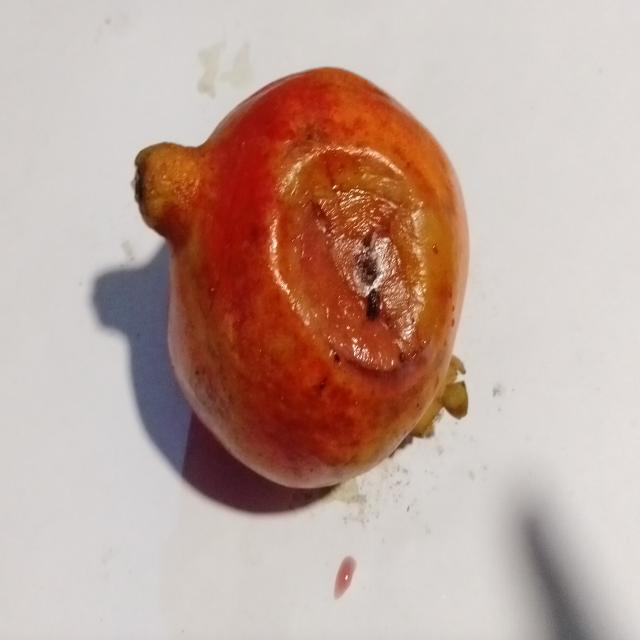Rotten: (136, 58, 476, 492)
